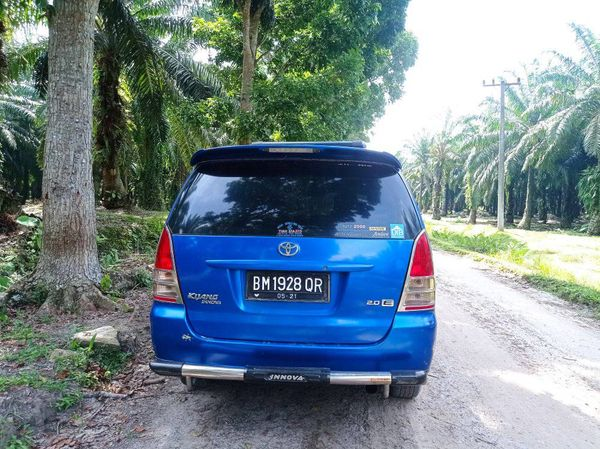plate: (247, 268, 331, 300)
